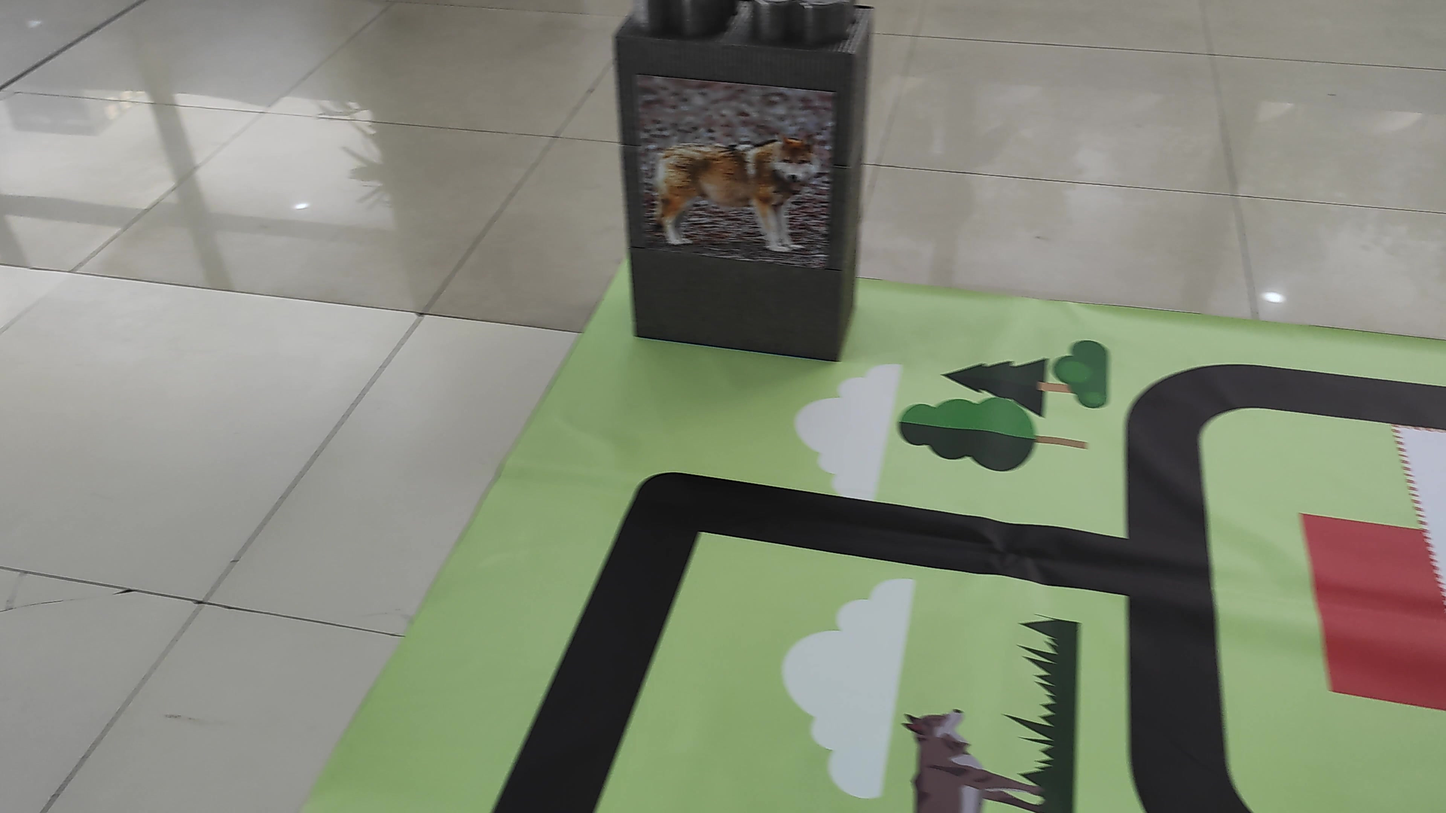wolf: (638, 84, 825, 259)
